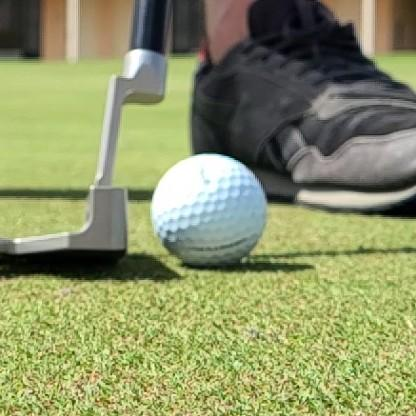golfball: (151, 154, 267, 266)
